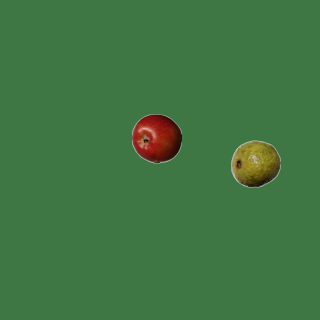Apple Braeburn: (131, 113, 181, 163)
Guava: (230, 138, 280, 188)
